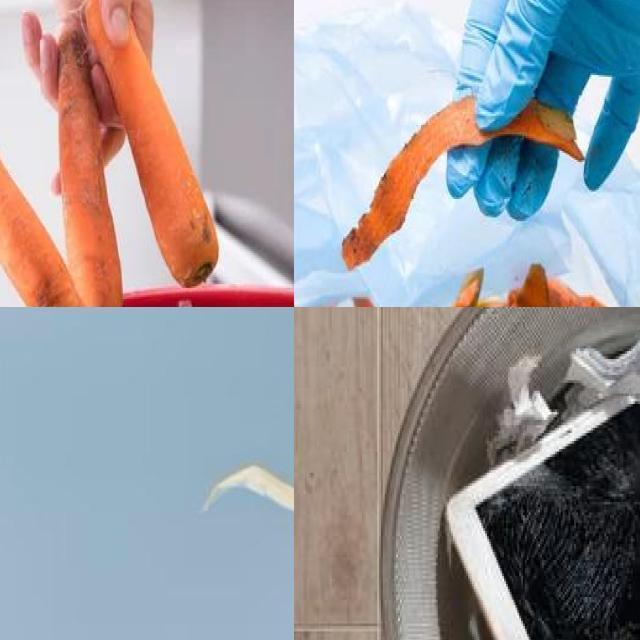E-Waste: (447, 397, 640, 640)
Paper: (489, 357, 555, 465)
top_view_waste: (381, 307, 640, 640), (447, 343, 640, 640)
